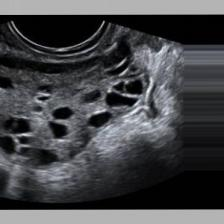pcos: (3, 43, 153, 168)
